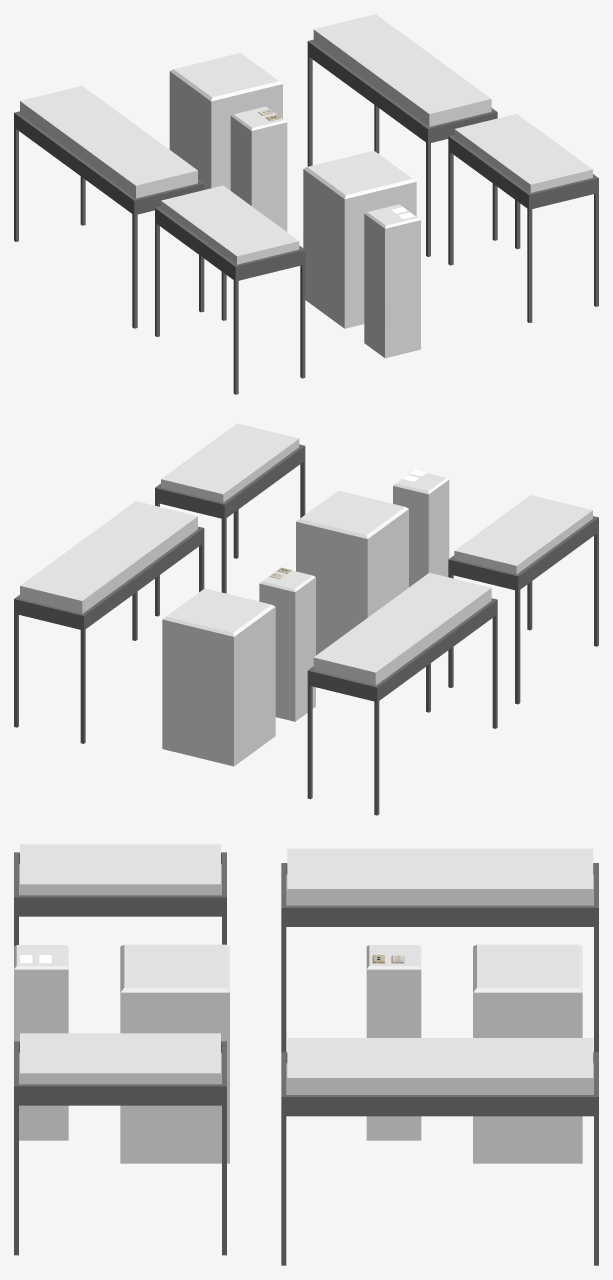
The model's file is abc.glb.
3 renders of one model, top to bottom at view 1: azimuth 30°, elevation 25°; view 2: azimuth 150°, elevation 25°; view 3: azimuth 270°, elevation 25°, orthographic. The views are drawn at different scales.
Visible parts, largest first — view 1: pedestalWide, vitrineLongTop.001, vitrineLongTop.002, pedestalWide.001, pedestalNarrow, vitrineTop, vitrineTop.001, pedestalNarrow.001, vitrineLong.001, vitrine.001, vitrine, vitrineLong; view 2: pedestalWide.001, pedestalWide, vitrineLongTop.002, vitrineLongTop.001, pedestalNarrow.001, vitrineTop, vitrineTop.001, vitrineLong.001, vitrineLong, pedestalNarrow, vitrine.001, vitrine; view 3: vitrineLongTop.002, vitrineLongTop.001, pedestalWide, pedestalWide.001, vitrineTop, vitrineTop.001, vitrineLong, vitrineLong.001, vitrine, pedestalNarrow, pedestalNarrow.001, vitrine.001.
Part boxes in pixels (x1,y1,x2,y2): pedestalWide: [303, 150, 416, 328]; vitrineLongTop.001: [313, 14, 491, 126]; vitrineLongTop.002: [20, 86, 197, 198]; pedestalWide.001: [169, 53, 282, 190]; pedestalNarrow: [364, 204, 420, 358]; vitrineTop: [454, 114, 592, 192]; vitrineTop.001: [161, 185, 299, 264]; pedestalNarrow.001: [230, 106, 287, 231]; vitrineLong.001: [14, 111, 204, 328]; vitrine.001: [155, 206, 305, 394]; vitrine: [448, 135, 598, 322]; vitrineLong: [307, 39, 497, 256]; pedestalWide.001: [162, 588, 275, 766]; pedestalWide: [296, 490, 408, 655]; vitrineLongTop.002: [313, 572, 491, 685]; vitrineLongTop.001: [20, 501, 197, 613]; pedestalNarrow.001: [259, 568, 315, 721]; vitrineTop: [161, 423, 299, 502]; vitrineTop.001: [454, 495, 592, 574]; vitrineLong.001: [307, 598, 497, 815]; vitrineLong: [14, 526, 204, 743]; pedestalNarrow: [393, 470, 449, 587]; vitrine.001: [448, 516, 598, 704]; vitrine: [155, 444, 305, 616]; vitrineLongTop.002: [287, 848, 593, 905]; vitrineLongTop.001: [287, 1038, 593, 1094]; pedestalWide: [120, 944, 229, 1163]; pedestalWide.001: [473, 944, 582, 1163]; vitrineTop: [20, 1033, 220, 1084]; vitrineTop.001: [20, 844, 220, 895]; vitrineLong: [281, 1052, 598, 1265]; vitrineLong.001: [281, 863, 598, 1051]; vitrine: [14, 1041, 226, 1255]; pedestalNarrow: [14, 945, 68, 1140]; pedestalNarrow.001: [366, 945, 421, 1140]; vitrine.001: [14, 852, 226, 946].
Size of the model in its own units: 3.17 by 1.2 by 3.35.
14 materials, 4 textured.
